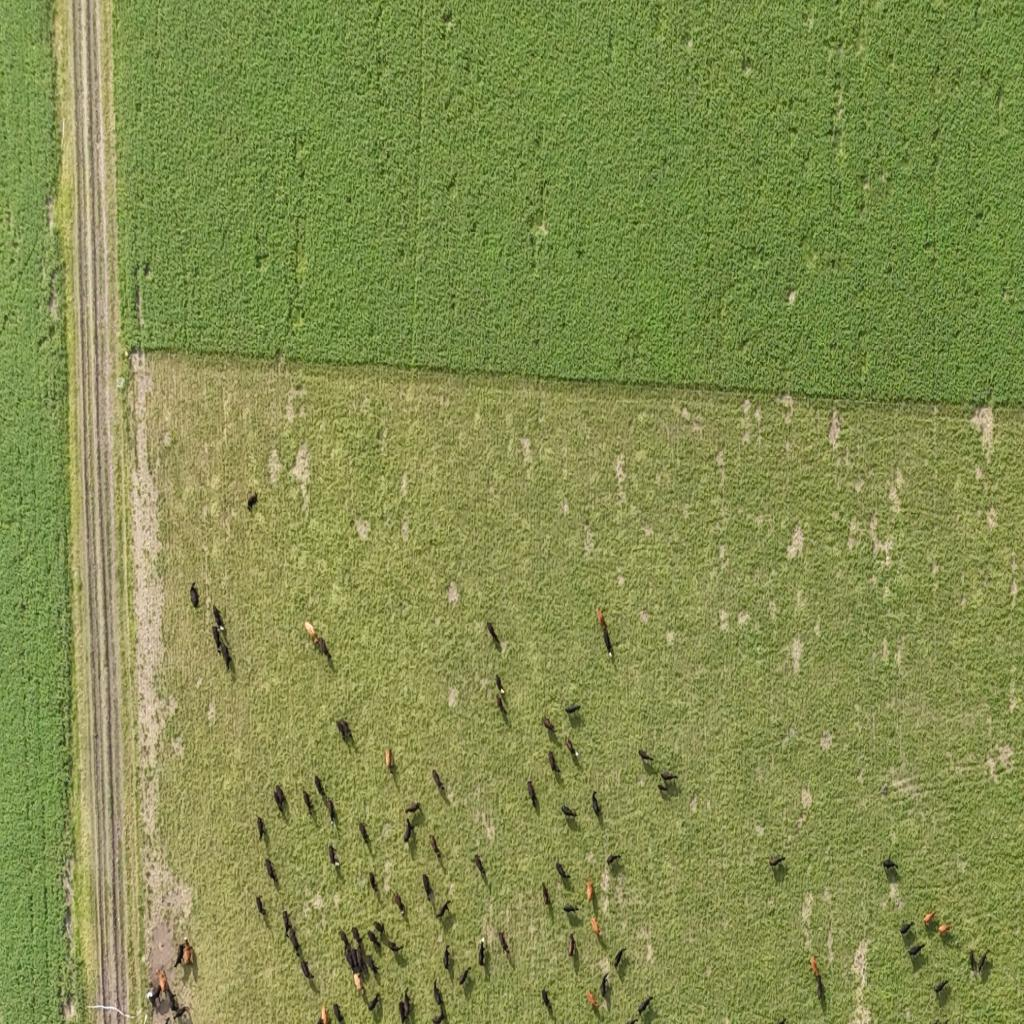cow: (810, 954, 828, 1004), (764, 848, 791, 878), (237, 484, 261, 517), (381, 737, 398, 773), (596, 627, 616, 657), (216, 629, 230, 669), (314, 632, 332, 662), (253, 893, 270, 920), (339, 929, 353, 961), (183, 934, 196, 968), (264, 856, 278, 886), (364, 952, 379, 980), (305, 620, 320, 648), (472, 853, 486, 882), (367, 928, 383, 953), (172, 939, 184, 972), (252, 816, 266, 844), (345, 944, 359, 972), (526, 778, 538, 810), (593, 604, 609, 628), (434, 1000, 452, 1021), (432, 769, 446, 795), (486, 621, 500, 647), (287, 928, 300, 956), (586, 990, 600, 1016), (302, 788, 314, 818), (314, 775, 326, 805), (639, 748, 655, 770), (542, 988, 554, 1017), (429, 833, 442, 859), (565, 734, 579, 758), (882, 854, 898, 875), (354, 947, 366, 975), (422, 873, 433, 903), (437, 900, 452, 922), (638, 995, 653, 1017), (341, 713, 354, 738), (404, 988, 414, 1020), (273, 782, 286, 806), (548, 751, 560, 777), (392, 890, 405, 914), (212, 604, 224, 630), (352, 968, 364, 994), (600, 972, 610, 1003), (499, 930, 510, 958), (556, 860, 570, 882), (148, 984, 162, 1006), (385, 936, 402, 954), (212, 625, 222, 655), (157, 969, 167, 999), (561, 804, 578, 821), (358, 821, 370, 845), (614, 947, 626, 971), (300, 958, 312, 982), (978, 950, 990, 974), (496, 692, 508, 716), (458, 966, 471, 988), (329, 843, 340, 868), (352, 926, 363, 951), (367, 992, 380, 1013), (374, 921, 387, 942), (908, 942, 925, 958), (172, 1005, 188, 1022), (403, 817, 413, 844), (592, 792, 602, 819), (282, 909, 292, 936), (968, 950, 978, 977), (542, 715, 556, 734), (332, 1002, 344, 1024), (370, 911, 381, 934), (660, 770, 678, 784), (274, 790, 284, 815), (168, 992, 179, 1014), (478, 938, 486, 968), (336, 724, 348, 744), (399, 993, 407, 1023), (606, 854, 622, 869), (934, 979, 948, 996), (328, 798, 337, 824), (190, 582, 199, 608), (404, 802, 420, 816), (563, 904, 579, 918), (937, 919, 951, 935), (166, 1007, 180, 1023), (590, 915, 600, 937), (542, 882, 551, 906), (443, 946, 451, 972), (568, 933, 576, 959), (564, 704, 581, 716), (369, 871, 378, 893), (900, 922, 914, 936), (586, 878, 594, 902), (432, 979, 440, 1003), (496, 674, 505, 694), (320, 1004, 329, 1024), (924, 910, 936, 925), (657, 778, 668, 793), (626, 1017, 639, 1024)
